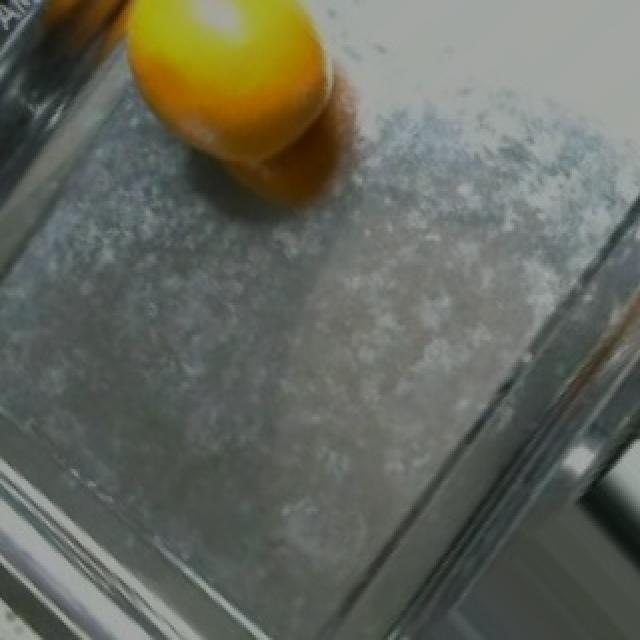Fruit: (104, 0, 358, 189)
